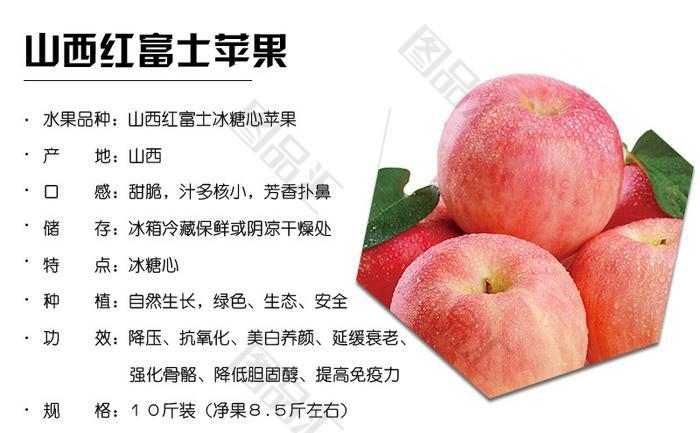apple: (435, 72, 631, 263), (388, 232, 591, 400), (572, 213, 677, 362)
